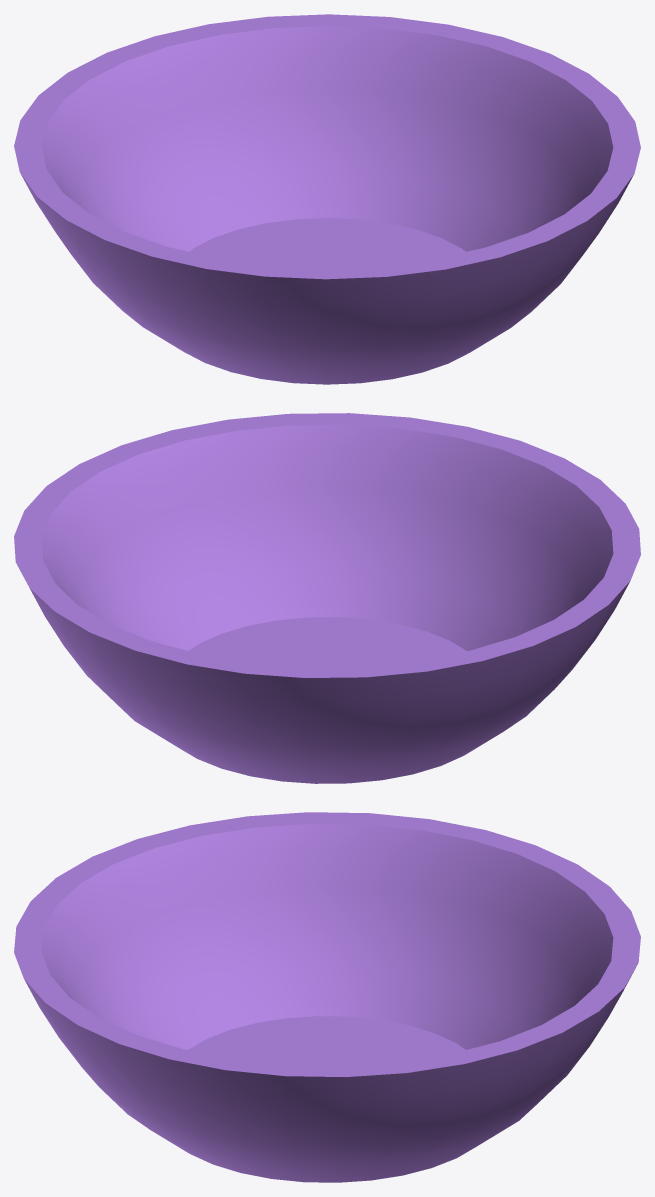
The model's file is Mortero.fbx.
3 views of the same model, one above another, from view 1: azimuth 30°, elevation 25°; view 2: azimuth 150°, elevation 25°; view 3: azimuth 270°, elevation 25° (orthographic).
Parts seen in each view (by area): view 1: Mortero; view 2: Mortero; view 3: Mortero.
Boxes of the visible parts, <box> form: Mortero: <box>14,14,640,384</box>; Mortero: <box>14,413,640,783</box>; Mortero: <box>14,812,640,1182</box>.
Size of the model in its own units: 10.62 by 3.13 by 10.62.
